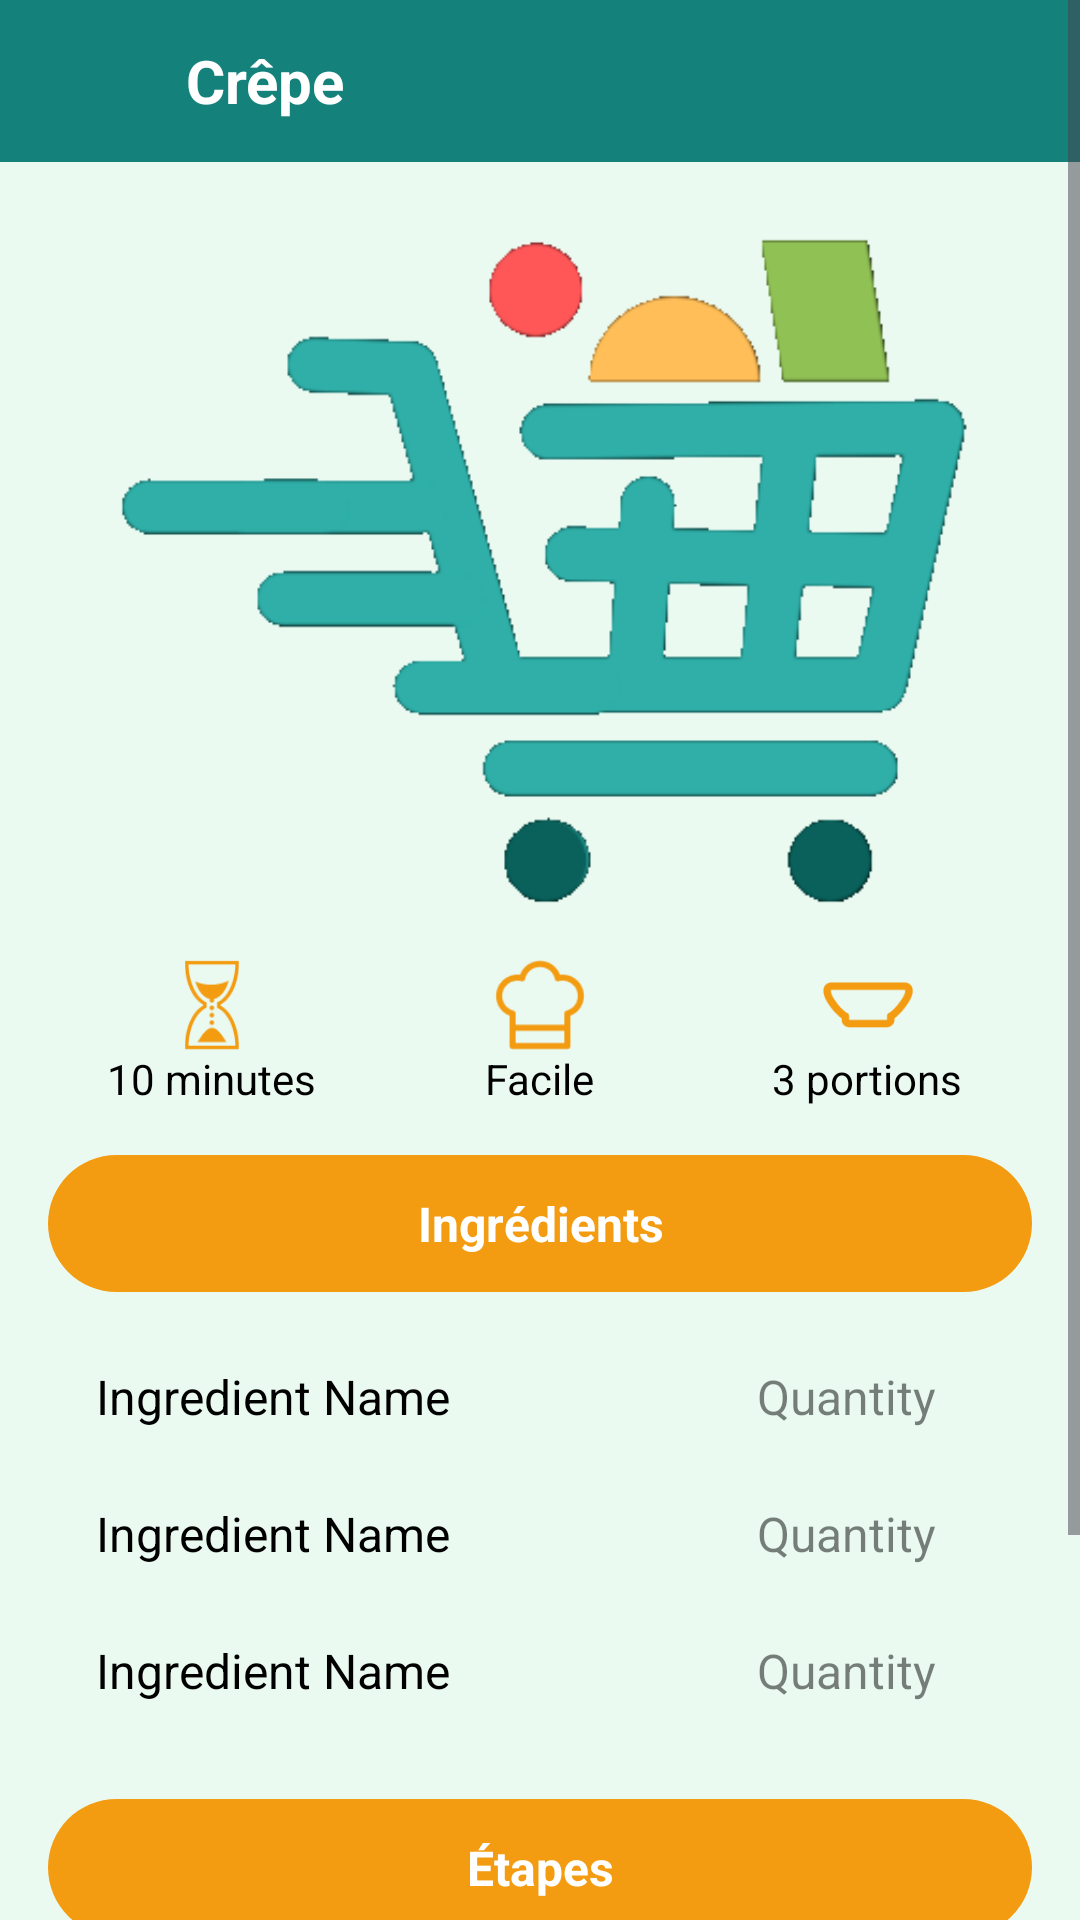

Locate icon controls on the screen. Image size 1080w x 1920h, boxes as (x1, y1, x2, y2).
Difficulty Icon: (496, 960, 584, 1050)
Portion Icon: (823, 982, 913, 1028)
Time Icon: (185, 960, 239, 1050)
